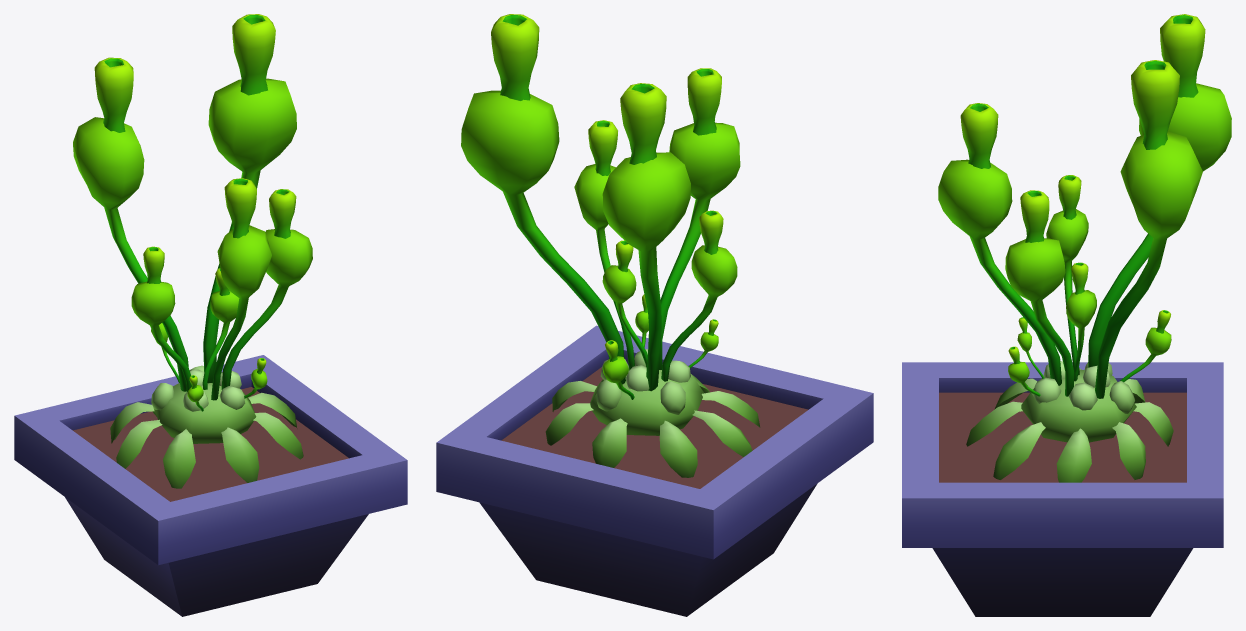
The model's file is wp_wPot_18.fbx.
The picture shows the model from 3 angles, left to right: view 1: azimuth 30°, elevation 25°; view 2: azimuth 150°, elevation 25°; view 3: azimuth 270°, elevation 25°; orthographic projection. The views are drawn at different scales.
Parts seen in each view (by area): view 1: w_pl18; view 2: w_pl18; view 3: w_pl18.
Boxes of the visible parts, left/top/right/bottom form: w_pl18: left=14, top=14, right=407, bottom=616; w_pl18: left=436, top=14, right=873, bottom=616; w_pl18: left=902, top=14, right=1231, bottom=616.
Bounding box in the file's own units: 110 × 212 × 113.
